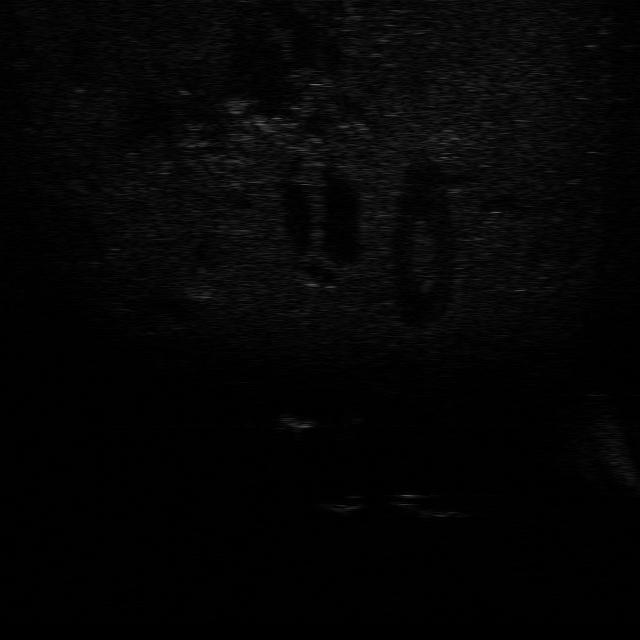cube: (328, 486, 370, 516)
square cage: (275, 406, 321, 434)
tyre: (395, 485, 470, 521)
